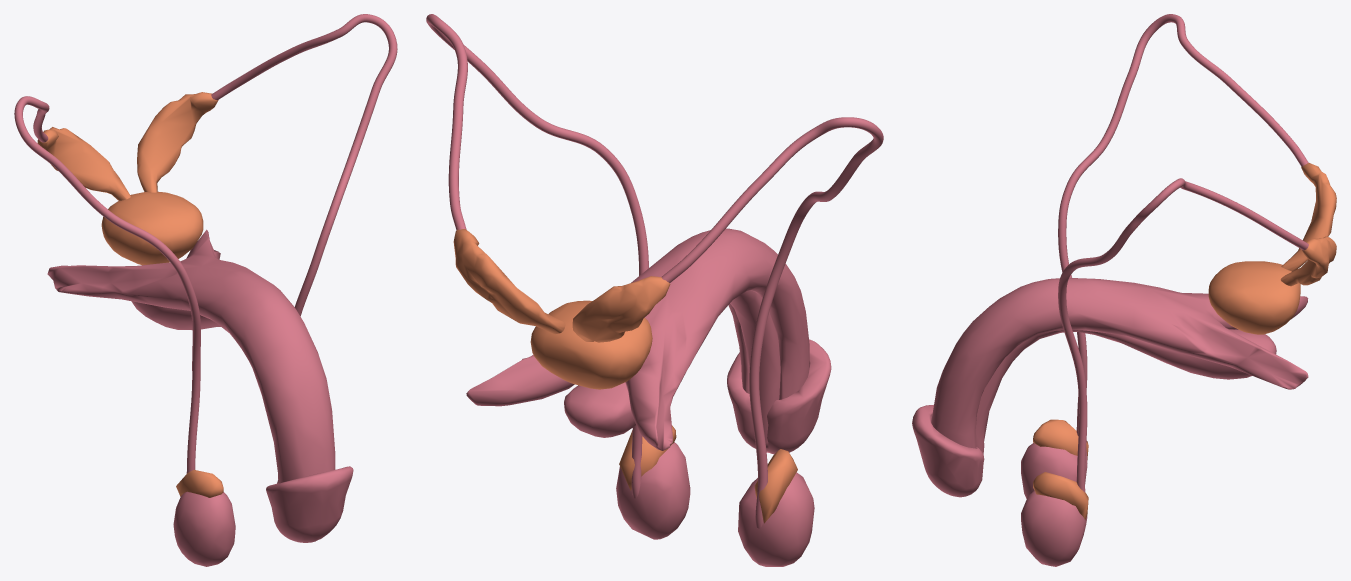
Rendered from Pene.fbx.
3 renders of one model, left to right at view 1: azimuth 30°, elevation 25°; view 2: azimuth 150°, elevation 25°; view 3: azimuth 270°, elevation 25°, orthographic. The views are drawn at different scales.
Visible parts, largest first — view 1: Pene; view 2: Pene; view 3: Pene.
Boxes of the visible parts, x1=… form: Pene: x1=14, y1=14, x2=397, y2=566; Pene: x1=426, y1=14, x2=883, y2=566; Pene: x1=912, y1=14, x2=1336, y2=566.
Size of the model in its own units: 15.2 by 17.31 by 15.1.
